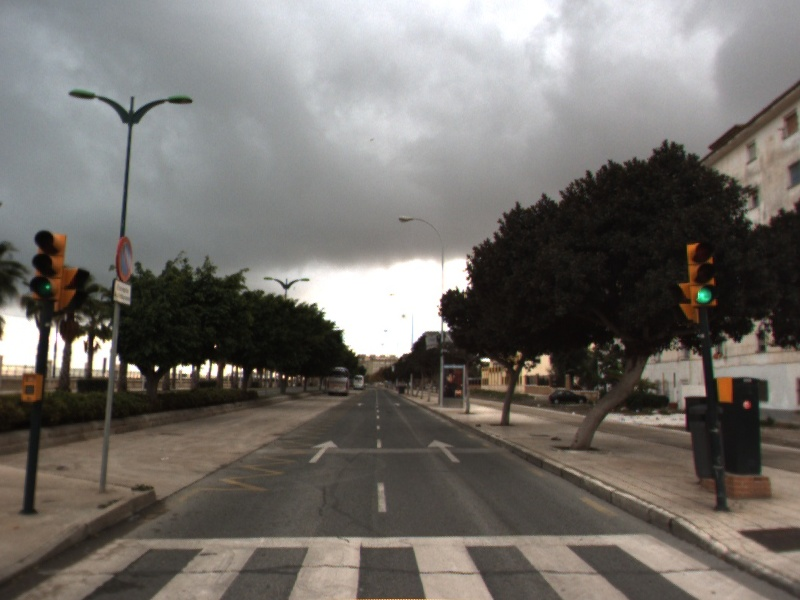STRAIGHT: (425, 438, 463, 464), (307, 438, 340, 465)
